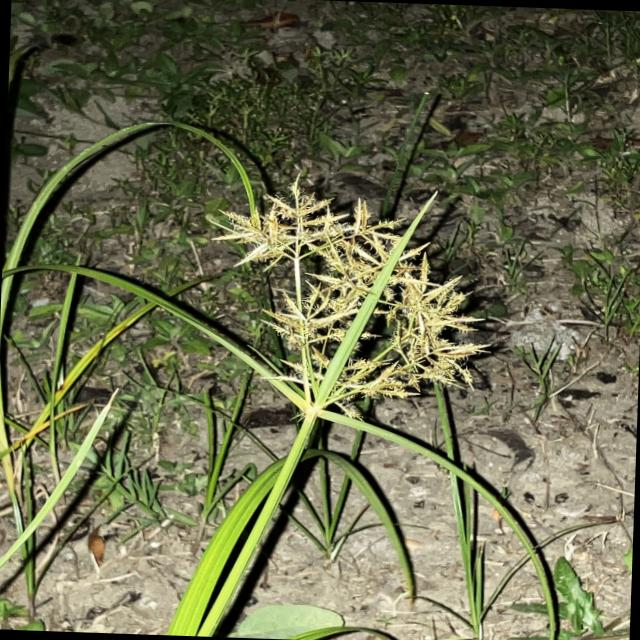cyperus: (196, 160, 504, 426)
